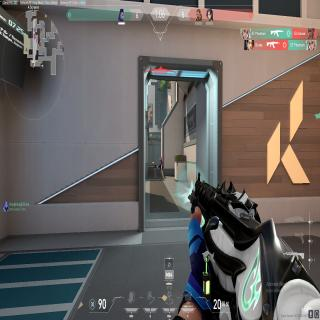ENEMY-BODY: (160, 156, 162, 170)
ENEMY-HEAD: (160, 156, 162, 159)
